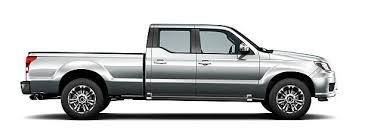wheel: (61, 78, 104, 120)
